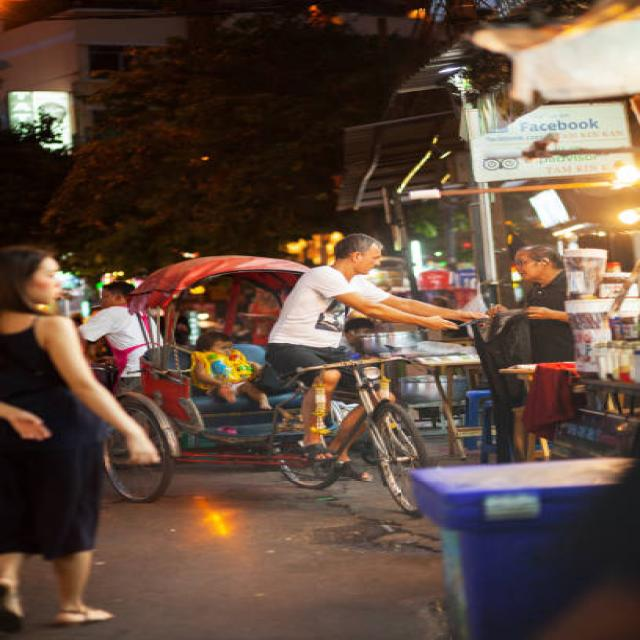Emperan: (237, 94, 640, 566)
